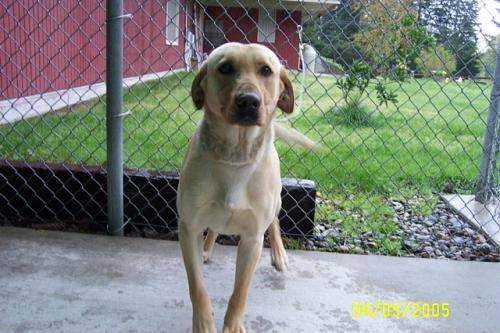dog: (177, 42, 323, 333)
